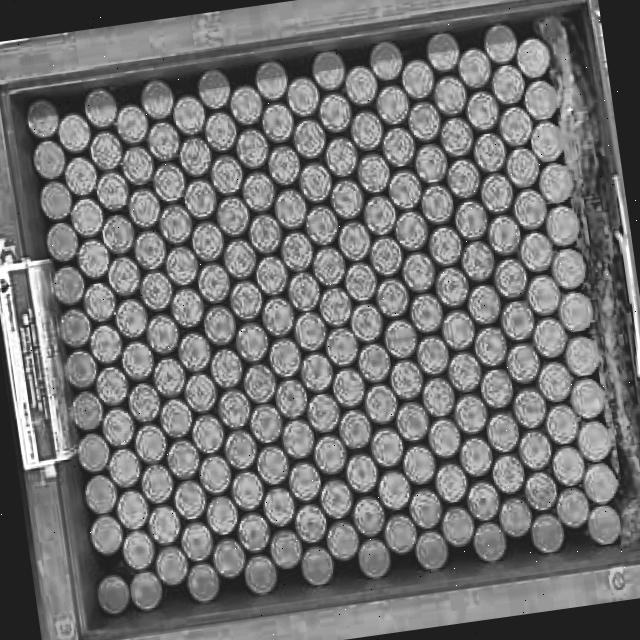vial: (551, 248, 585, 291), (359, 538, 391, 582), (577, 422, 611, 463), (555, 488, 589, 529), (222, 239, 257, 278), (159, 205, 193, 245), (459, 437, 493, 477), (551, 446, 585, 486), (319, 478, 352, 519), (584, 464, 617, 505), (513, 388, 546, 429), (507, 343, 540, 384), (520, 231, 553, 272), (288, 460, 320, 502), (442, 505, 474, 547), (121, 146, 155, 185), (57, 308, 91, 347), (587, 507, 621, 546), (197, 263, 230, 303), (434, 462, 467, 502), (539, 362, 572, 402), (527, 275, 560, 315), (501, 301, 534, 341), (442, 310, 475, 350), (410, 293, 443, 333), (484, 24, 517, 64), (184, 179, 216, 220), (71, 391, 103, 432), (473, 523, 505, 564), (525, 471, 557, 512), (487, 411, 519, 452), (514, 189, 546, 230), (364, 383, 396, 424), (415, 144, 447, 185), (63, 350, 97, 388), (133, 425, 167, 463), (71, 197, 104, 236), (209, 350, 242, 389), (409, 489, 442, 528), (566, 337, 599, 376), (533, 318, 566, 357), (422, 378, 455, 417), (357, 342, 390, 381), (430, 226, 463, 265), (299, 161, 332, 200), (39, 181, 71, 221), (178, 331, 210, 371), (153, 357, 185, 397), (468, 480, 500, 520), (475, 326, 507, 366), (540, 164, 572, 204), (488, 215, 520, 255), (339, 410, 371, 450), (332, 179, 364, 219), (382, 126, 414, 166), (91, 514, 122, 555), (239, 513, 270, 554), (237, 129, 267, 171), (133, 232, 167, 269), (115, 300, 148, 338), (121, 342, 154, 380), (185, 374, 218, 412), (77, 433, 110, 471), (546, 406, 579, 444), (346, 454, 379, 492), (313, 248, 346, 286), (480, 174, 513, 212), (58, 114, 90, 153), (33, 140, 65, 179), (173, 94, 205, 133), (192, 414, 224, 453), (160, 399, 192, 438), (123, 530, 155, 569), (379, 471, 411, 510), (492, 454, 524, 493), (532, 513, 564, 552), (482, 370, 514, 409), (560, 292, 592, 331), (448, 353, 480, 392), (371, 427, 403, 466), (282, 419, 314, 458), (230, 281, 262, 320), (281, 231, 313, 270), (371, 237, 403, 276), (396, 211, 428, 250), (531, 122, 563, 161), (306, 205, 338, 244), (294, 118, 326, 157), (402, 59, 434, 98), (435, 76, 467, 115), (459, 50, 491, 89), (296, 503, 327, 543), (416, 530, 447, 570), (398, 402, 429, 442), (403, 446, 436, 483), (494, 260, 527, 297), (436, 269, 469, 306), (311, 53, 344, 90), (65, 157, 97, 195), (147, 122, 179, 160), (77, 240, 109, 278), (97, 576, 129, 614), (131, 571, 163, 609), (188, 564, 220, 602), (231, 473, 263, 511), (428, 420, 460, 458), (499, 497, 531, 535), (571, 381, 603, 419), (547, 207, 579, 245), (308, 394, 340, 432), (251, 405, 283, 443), (300, 354, 332, 392), (462, 242, 494, 280), (500, 108, 532, 146), (256, 61, 288, 99), (319, 93, 351, 131), (351, 112, 383, 150), (467, 91, 499, 129), (518, 39, 550, 77), (91, 131, 122, 170), (117, 104, 148, 143), (154, 163, 185, 202), (52, 266, 83, 305), (204, 306, 235, 345), (117, 490, 148, 529), (181, 522, 212, 561), (206, 497, 237, 536), (456, 394, 487, 433), (385, 320, 416, 359), (256, 256, 287, 295), (422, 185, 453, 224), (304, 545, 334, 585), (275, 190, 305, 230), (327, 522, 360, 558), (85, 90, 117, 127), (192, 223, 224, 260), (172, 290, 204, 327), (108, 258, 140, 295), (109, 450, 141, 487), (224, 432, 256, 469), (519, 433, 551, 470), (468, 286, 500, 323), (243, 366, 275, 403), (455, 202, 487, 239), (358, 155, 390, 192), (441, 119, 473, 156), (427, 34, 459, 71), (525, 81, 557, 118), (180, 138, 211, 176), (147, 315, 178, 353), (85, 283, 116, 321), (91, 325, 122, 363), (129, 383, 160, 421), (200, 457, 231, 495), (168, 440, 199, 478), (156, 547, 187, 585), (245, 556, 276, 594), (263, 489, 294, 527), (417, 335, 448, 373), (391, 361, 422, 399), (236, 323, 267, 361), (269, 339, 300, 377), (404, 253, 435, 291), (250, 215, 281, 253), (268, 147, 299, 185), (231, 86, 262, 124), (326, 140, 357, 178), (409, 102, 440, 140), (493, 66, 524, 104), (316, 435, 346, 474), (334, 368, 364, 407), (508, 149, 538, 188), (355, 495, 384, 535), (102, 216, 134, 252), (212, 540, 244, 576), (276, 380, 308, 416), (326, 329, 358, 365), (288, 274, 320, 310), (142, 81, 173, 118), (129, 189, 160, 226), (85, 475, 116, 512), (262, 298, 293, 335), (320, 289, 351, 326), (345, 263, 376, 300), (340, 224, 371, 261), (217, 198, 248, 235), (346, 66, 377, 103), (372, 43, 403, 80), (376, 87, 407, 124), (47, 223, 77, 261), (141, 272, 171, 310), (97, 367, 127, 405), (103, 408, 133, 446), (475, 133, 505, 171), (390, 171, 420, 209), (206, 113, 236, 151), (200, 71, 230, 109), (386, 514, 415, 553), (212, 154, 241, 193), (287, 80, 319, 115), (27, 101, 58, 137), (218, 392, 249, 428), (149, 507, 180, 543), (377, 279, 408, 315), (98, 173, 128, 210), (271, 531, 301, 568), (296, 313, 326, 350), (365, 197, 395, 234), (244, 173, 274, 210), (263, 105, 293, 142), (259, 446, 288, 484), (175, 481, 204, 519), (167, 248, 197, 284), (142, 466, 172, 502), (450, 161, 480, 197), (353, 307, 382, 342)
